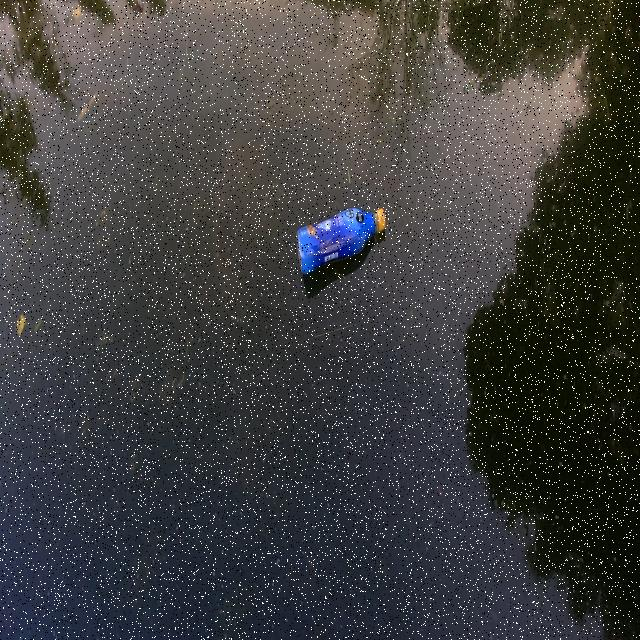Bottle: (296, 207, 390, 277)
